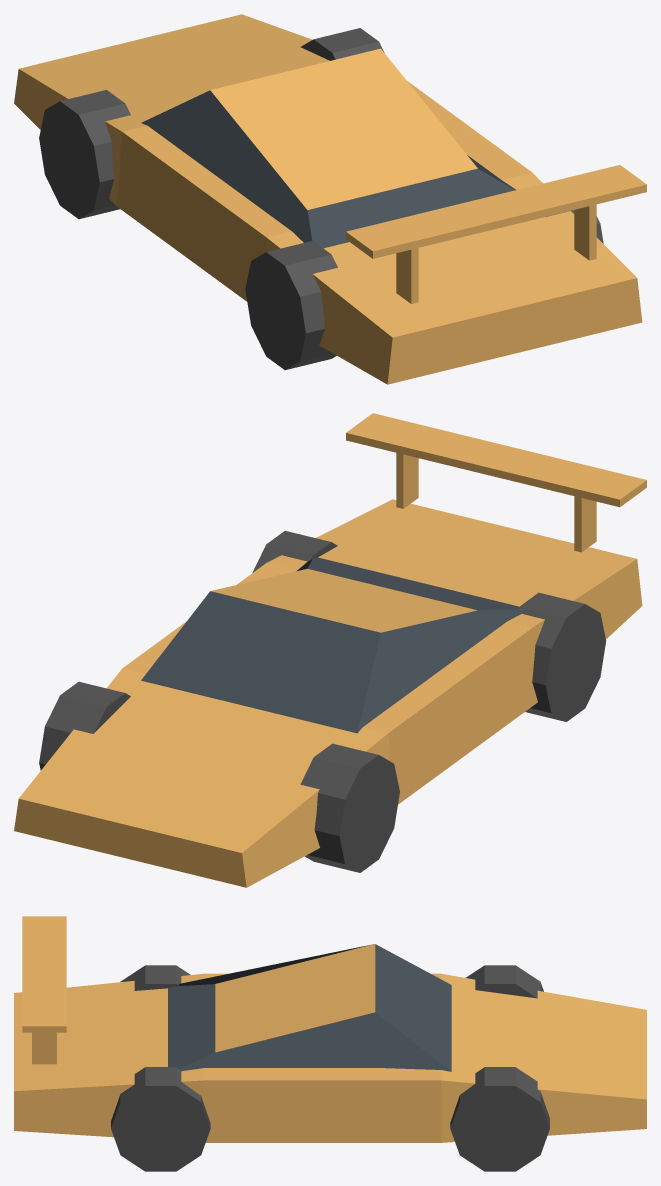
File: GTRS3.glb
3 views of the same model, one above another, from view 1: azimuth 30°, elevation 25°; view 2: azimuth 150°, elevation 25°; view 3: azimuth 270°, elevation 25° (orthographic). The views are drawn at different scales.
Parts seen in each view (by area): view 1: gt3rs_body, gt3rs_Wheel_RL, gt3rs_Wheel_FL, gt3rs_Wheel_FR; view 2: gt3rs_body, gt3rs_Wheel_FL, gt3rs_Wheel_RL, gt3rs_Wheel_FR, gt3rs_Wheel_RR; view 3: gt3rs_body, gt3rs_Wheel_FR, gt3rs_Wheel_RR, gt3rs_Wheel_FL, gt3rs_Wheel_RL.
Part boxes in pixels (box(x1,y1,x2,y2)): gt3rs_body: box(14, 14, 646, 384); gt3rs_Wheel_RL: box(245, 241, 337, 370); gt3rs_Wheel_FL: box(39, 90, 130, 219); gt3rs_Wheel_FR: box(300, 28, 384, 60); gt3rs_body: box(14, 413, 646, 887); gt3rs_Wheel_FL: box(300, 743, 399, 872); gt3rs_Wheel_RL: box(518, 592, 606, 721); gt3rs_Wheel_FR: box(39, 681, 130, 770); gt3rs_Wheel_RR: box(252, 530, 337, 572); gt3rs_body: box(14, 916, 646, 1142); gt3rs_Wheel_FR: box(450, 1067, 549, 1171); gt3rs_Wheel_RR: box(111, 1067, 210, 1171); gt3rs_Wheel_FL: box(466, 965, 543, 998); gt3rs_Wheel_RL: box(120, 965, 190, 990).
Size of the model in its own units: 2.06 by 1.12 by 4.57.
